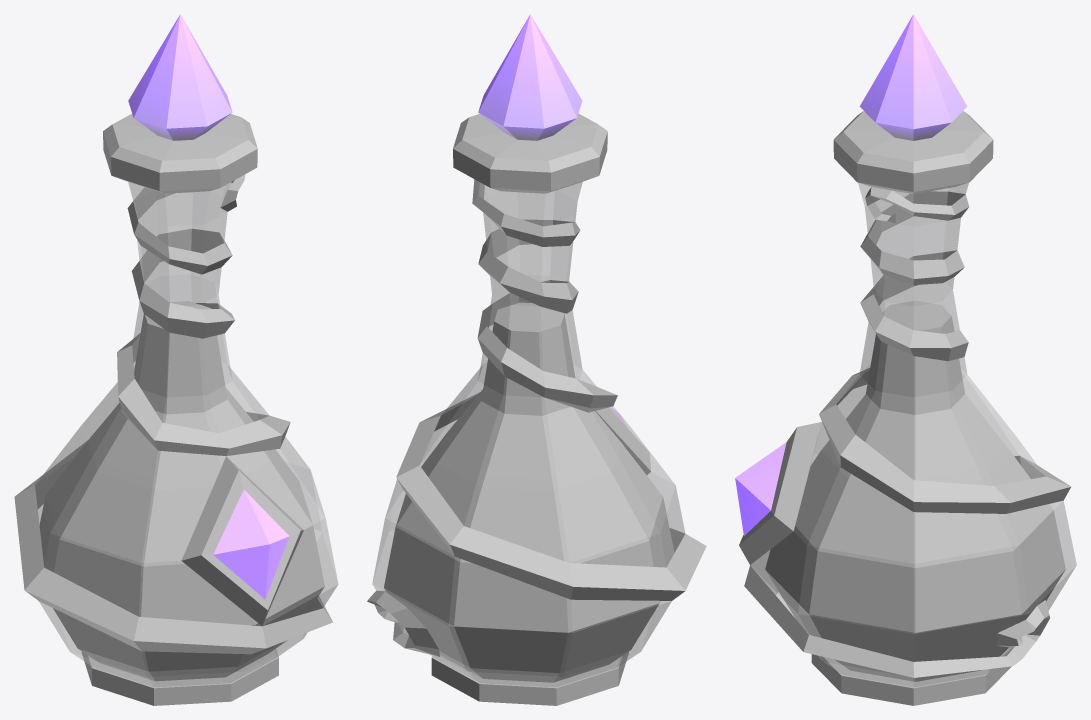
Rendered from SM_Prop_Bottle_04.fbx.
The picture shows the model from 3 angles, left to right: view 1: azimuth 30°, elevation 25°; view 2: azimuth 150°, elevation 25°; view 3: azimuth 270°, elevation 25°; orthographic projection.
Parts seen in each view (by area): view 1: SM_Prop_Bottle_04_Glass, SM_Prop_Bottle_04, SM_Prop_Bottle_04_Liquid; view 2: SM_Prop_Bottle_04_Glass, SM_Prop_Bottle_04_Liquid, SM_Prop_Bottle_04; view 3: SM_Prop_Bottle_04_Glass, SM_Prop_Bottle_04_Liquid, SM_Prop_Bottle_04.
Part boxes in pixels (left/top/right/bottom): SM_Prop_Bottle_04_Glass: left=35, top=180, right=338, bottom=686; SM_Prop_Bottle_04: left=14, top=14, right=332, bottom=705; SM_Prop_Bottle_04_Liquid: left=39, top=301, right=324, bottom=681; SM_Prop_Bottle_04_Glass: left=372, top=179, right=685, bottom=686; SM_Prop_Bottle_04_Liquid: left=384, top=302, right=674, bottom=682; SM_Prop_Bottle_04: left=367, top=14, right=706, bottom=705; SM_Prop_Bottle_04_Glass: left=750, top=183, right=1076, bottom=686; SM_Prop_Bottle_04_Liquid: left=765, top=300, right=1065, bottom=681; SM_Prop_Bottle_04: left=735, top=14, right=1070, bottom=705.
Size of the model in its own units: 23.39 by 48.89 by 23.34.
